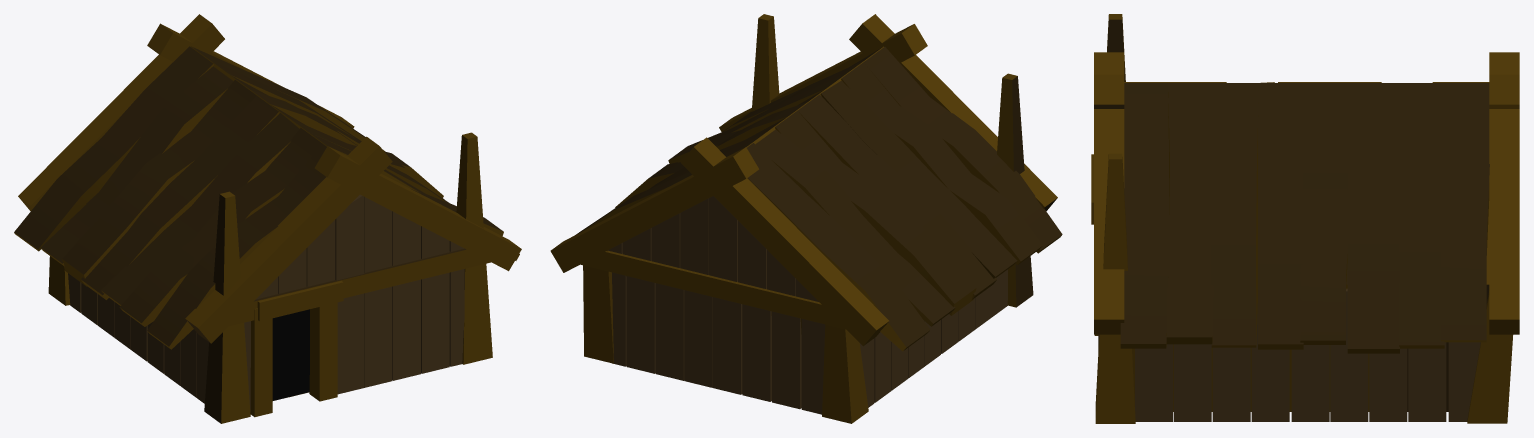
The model's file is maison_fonctionne.fbx.
The picture shows the model from 3 angles, left to right: view 1: azimuth 30°, elevation 25°; view 2: azimuth 150°, elevation 25°; view 3: azimuth 270°, elevation 25°; orthographic projection. The views are drawn at different scales.
Visible parts, largest first — view 1: group29_pasted__group24_pasted__pasted__pCube12; view 2: group29_pasted__group24_pasted__pasted__pCube12; view 3: group29_pasted__group24_pasted__pasted__pCube12.
Part boxes in pixels (x1=…): group29_pasted__group24_pasted__pasted__pCube12: x1=14, y1=14, x2=521, y2=423; group29_pasted__group24_pasted__pasted__pCube12: x1=550, y1=14, x2=1062, y2=423; group29_pasted__group24_pasted__pasted__pCube12: x1=1091, y1=14, x2=1519, y2=423.
Size of the model in its own units: 19.97 by 12.88 by 17.54.
